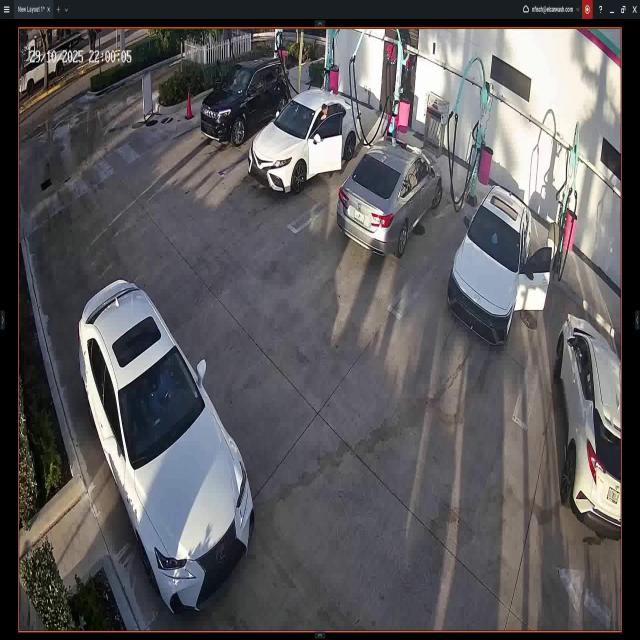Car: (76, 278, 254, 608), (449, 185, 551, 349), (560, 312, 622, 535), (338, 144, 441, 261), (249, 91, 361, 193), (202, 65, 288, 157)
